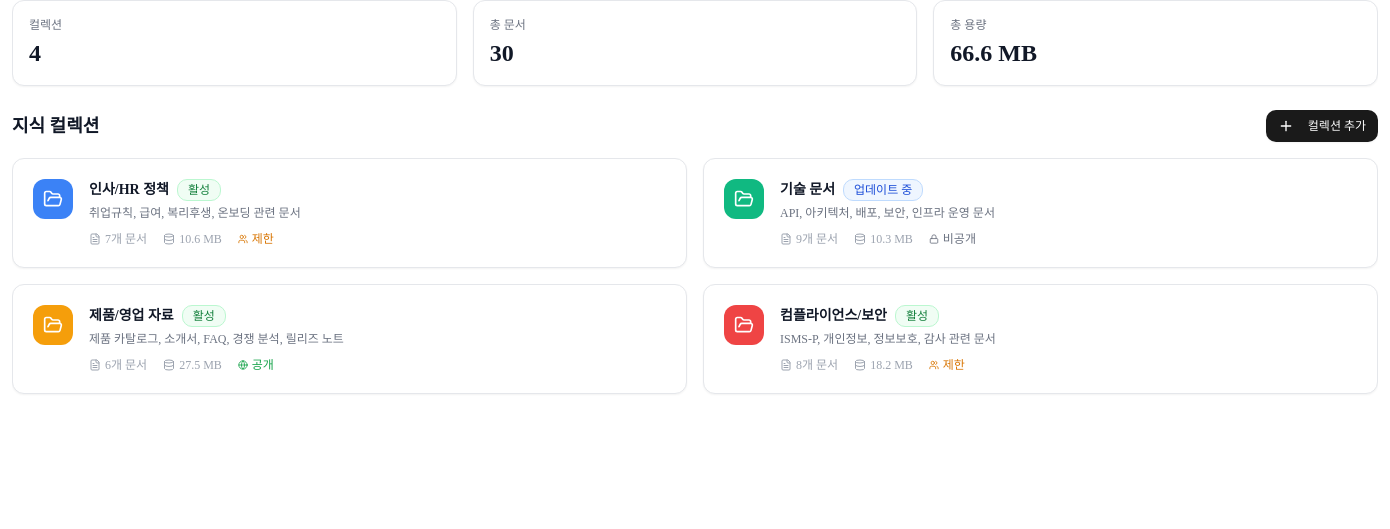
Test: KnowledgeBaseView › Document List View (after clicking collection) › navigates to document list on collection click
# Click the first collection
Click the button "인사/HR 정책 활성 취업규칙, 급여, 복리후생, 온보딩 관련 문서 7개 문서 10.6 MB 제한" at {"x": 53, "y": 199}, box left=12, top=158, right=687, bottom=268
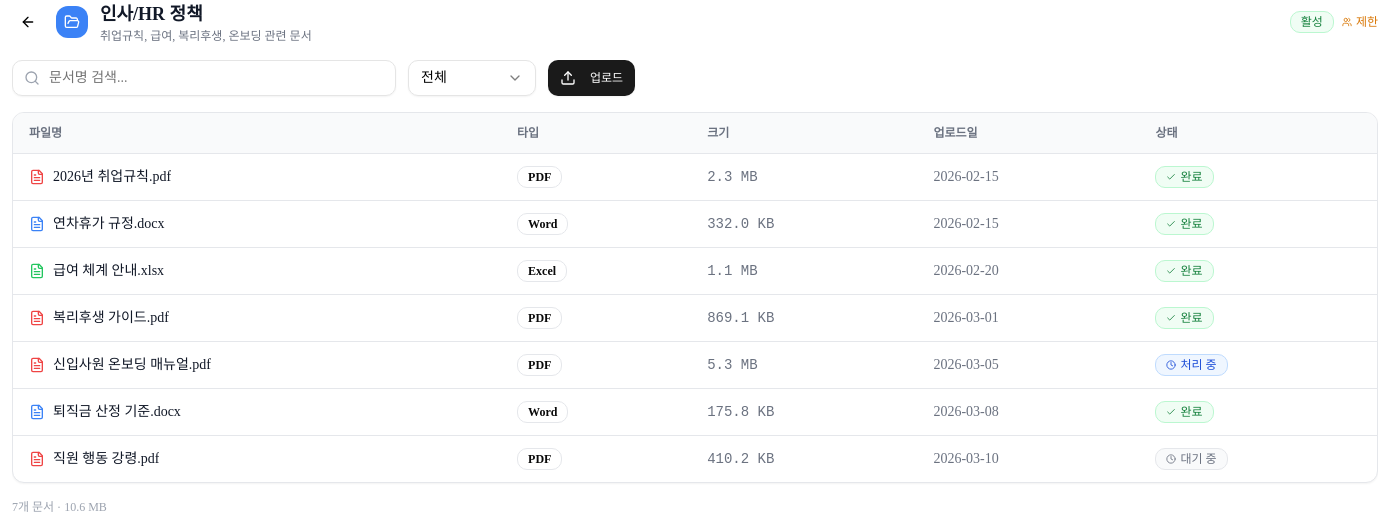
Result: the heading "인사/HR 정책" is shown at left=100, top=4, right=203, bottom=24
Result: the button named "컬렉션 목록으로 돌아가기" is shown at left=12, top=6, right=44, bottom=38
